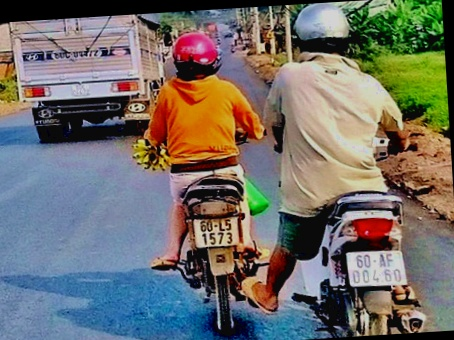Bien-so: (343, 248, 399, 283), (200, 209, 241, 236), (84, 70, 108, 83)
